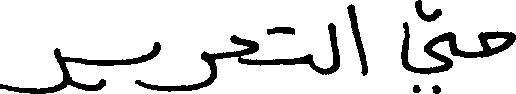X: (401, 0, 450, 93), (0, 43, 70, 93), (162, 46, 216, 93), (348, 0, 367, 80), (478, 26, 515, 62), (231, 30, 257, 69), (327, 18, 339, 79), (153, 37, 160, 93), (304, 49, 312, 73)
